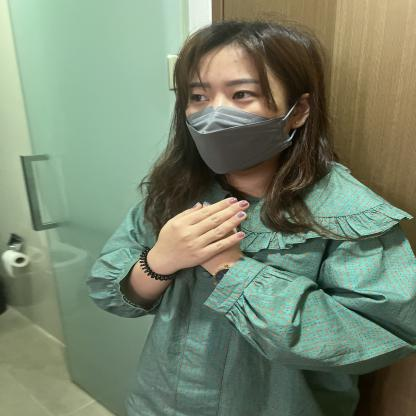Grieve: (82, 150, 328, 294)
